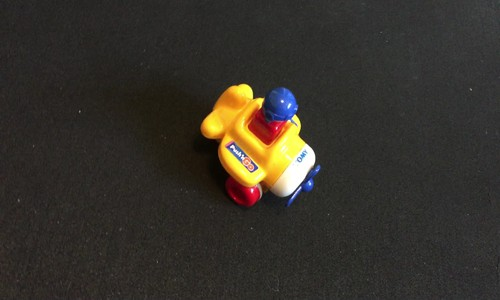toy: (195, 73, 322, 210)
